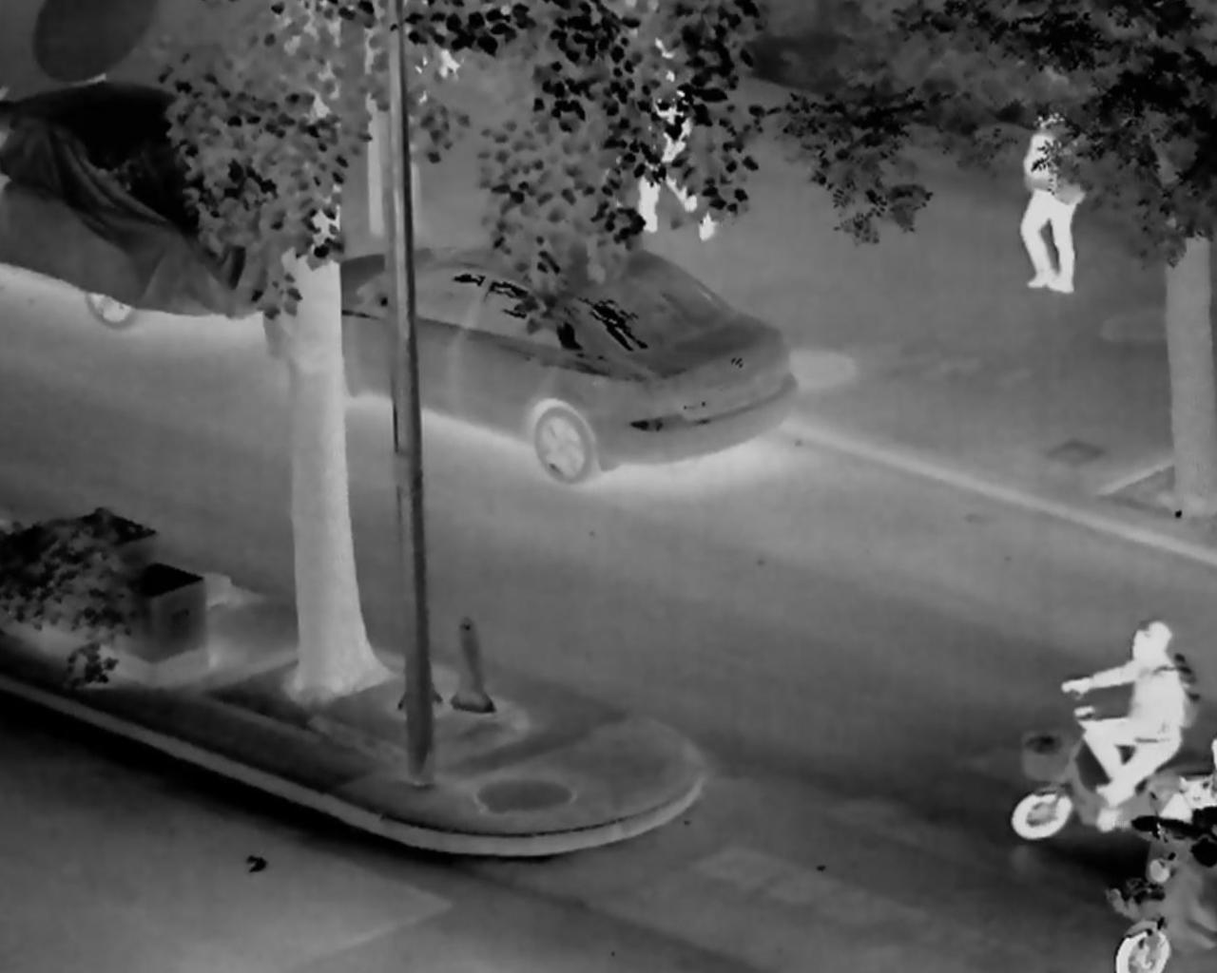person: (1057, 612, 1194, 832), (620, 34, 723, 243), (1020, 105, 1086, 294)
